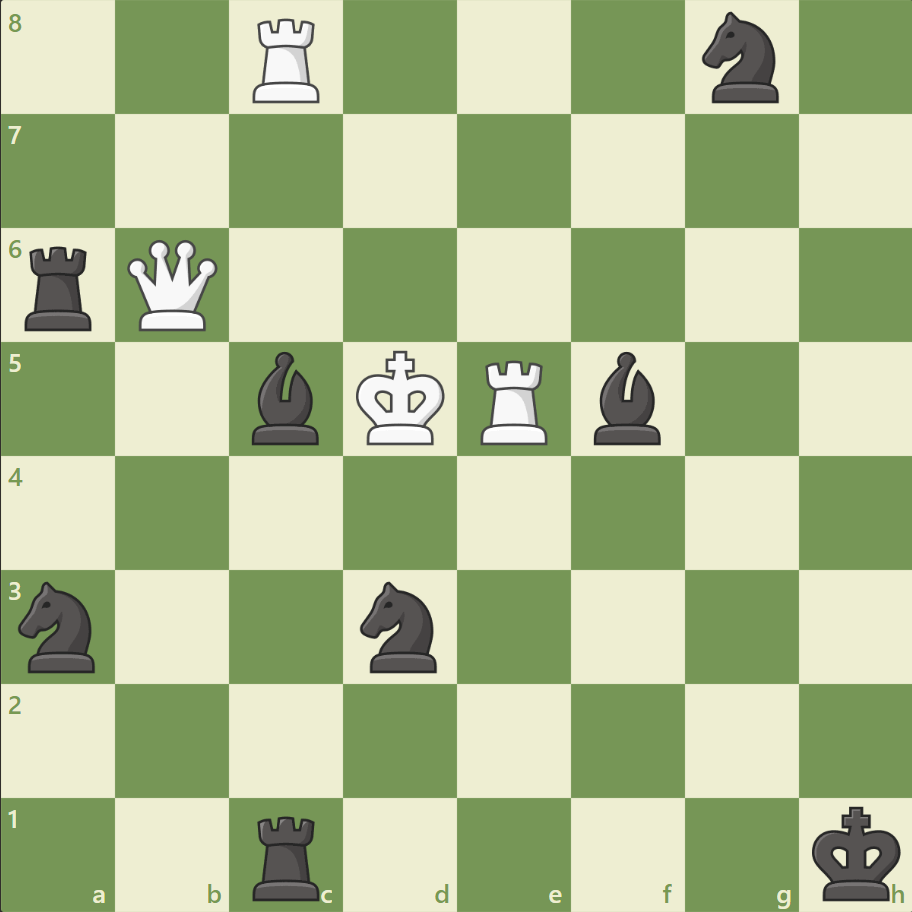K: (351, 344, 451, 452)
Q: (124, 236, 223, 335)
R: (246, 12, 329, 109), (473, 352, 556, 449)
b: (244, 347, 328, 449), (585, 347, 669, 449)
k: (806, 798, 906, 906)
n: (351, 575, 449, 677), (692, 7, 789, 110), (11, 575, 108, 677)
r: (246, 806, 329, 904), (19, 239, 102, 336)
